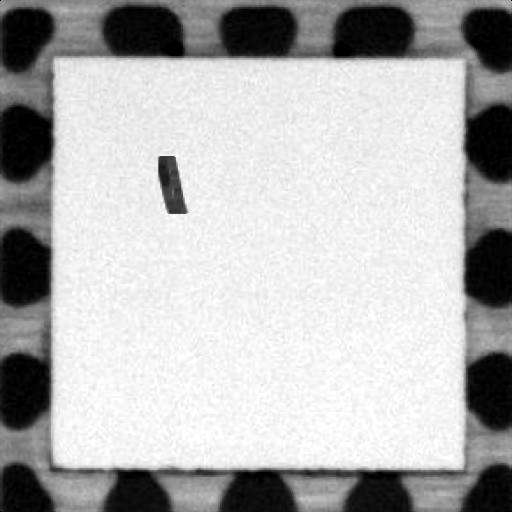DIE_INK: (152, 147, 186, 216)
